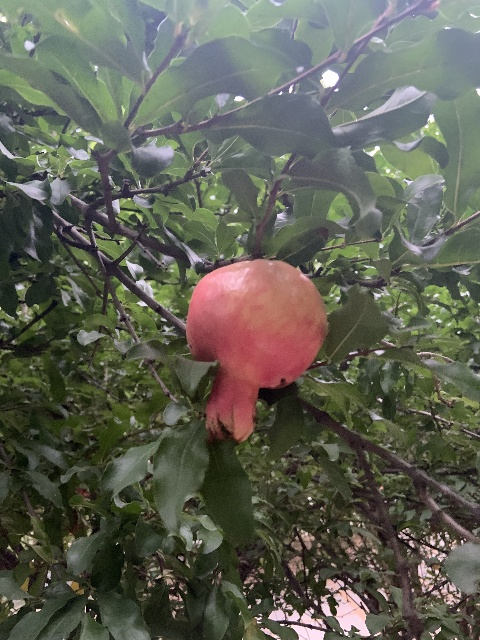ripe: (185, 259, 327, 442)
